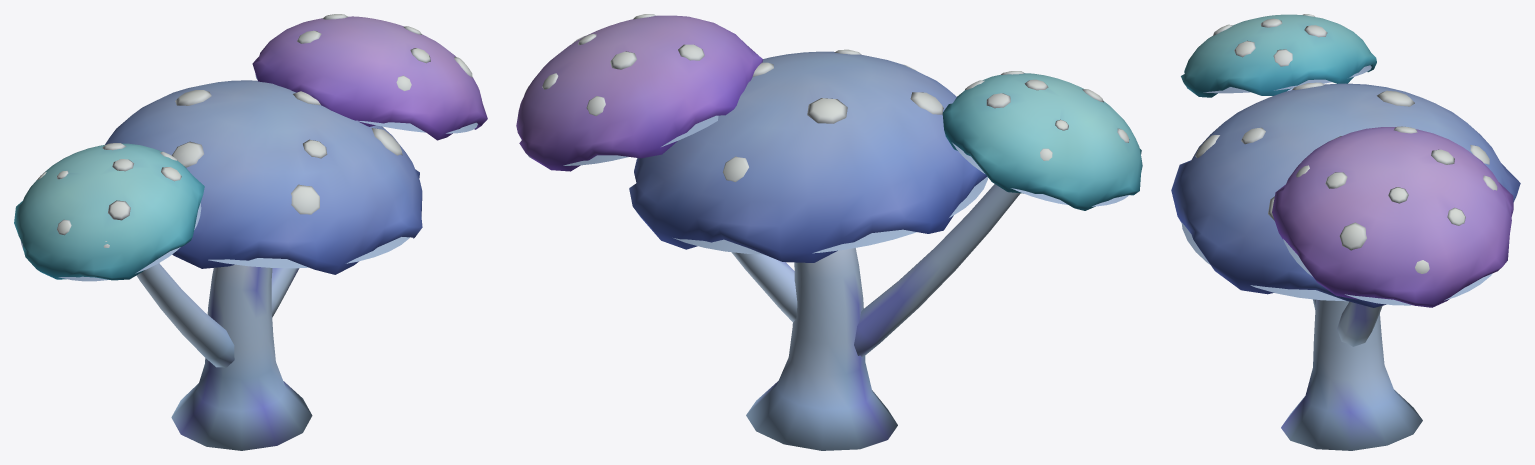
Rendered from verdant_tree_umbrellashroom_b.glb.
3 renders of one model, left to right at view 1: azimuth 30°, elevation 25°; view 2: azimuth 150°, elevation 25°; view 3: azimuth 270°, elevation 25°, orthographic. The views are drawn at different scales.
Parts seen in each view (by area): view 1: verdant_tree_umbrellashroom_b; view 2: verdant_tree_umbrellashroom_b; view 3: verdant_tree_umbrellashroom_b.
Boxes of the visible parts, bbox=[...] form: verdant_tree_umbrellashroom_b: bbox=[14, 14, 487, 450]; verdant_tree_umbrellashroom_b: bbox=[516, 14, 1142, 450]; verdant_tree_umbrellashroom_b: bbox=[1171, 14, 1520, 450].
Size of the model in its own units: 10.36 by 6.82 by 6.18.
